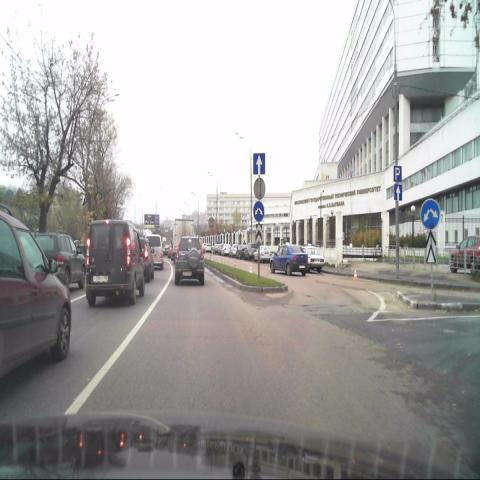4_2_3: (253, 201, 264, 222)
